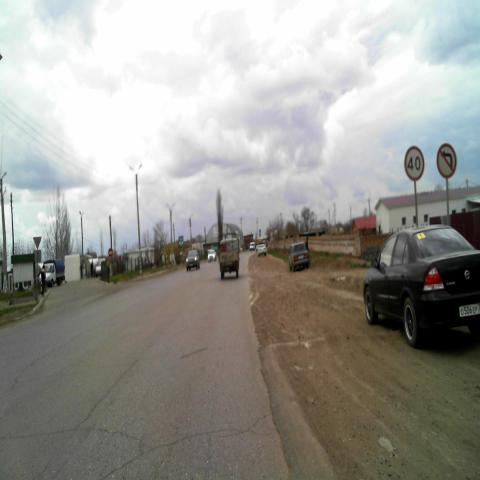3_18_2: (436, 142, 458, 180)
